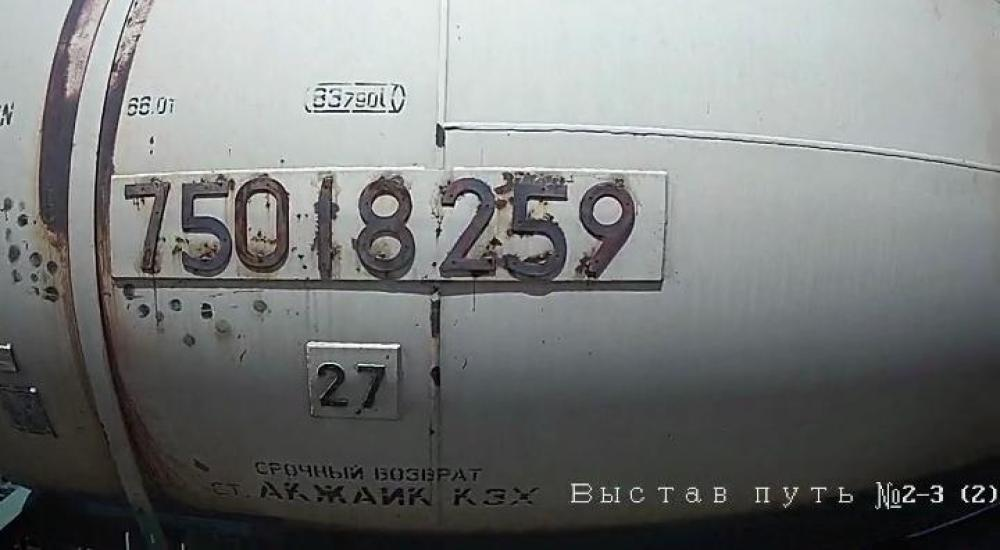Wagon-number: (119, 170, 646, 280)
